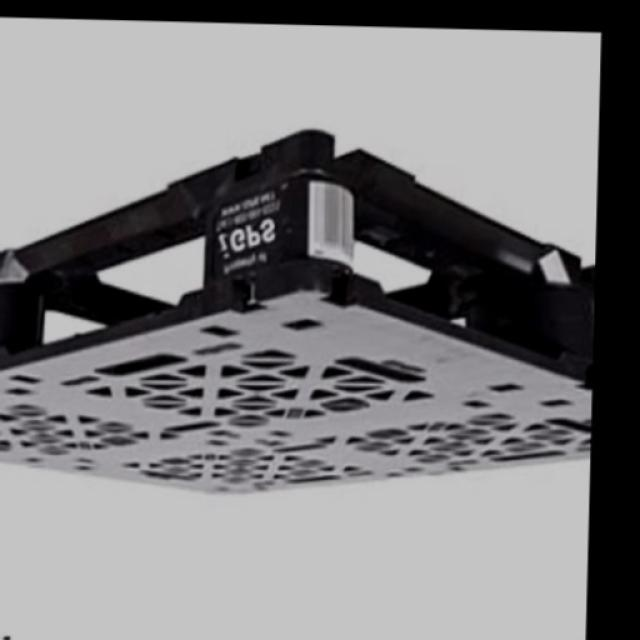igps: (0, 110, 608, 518)
